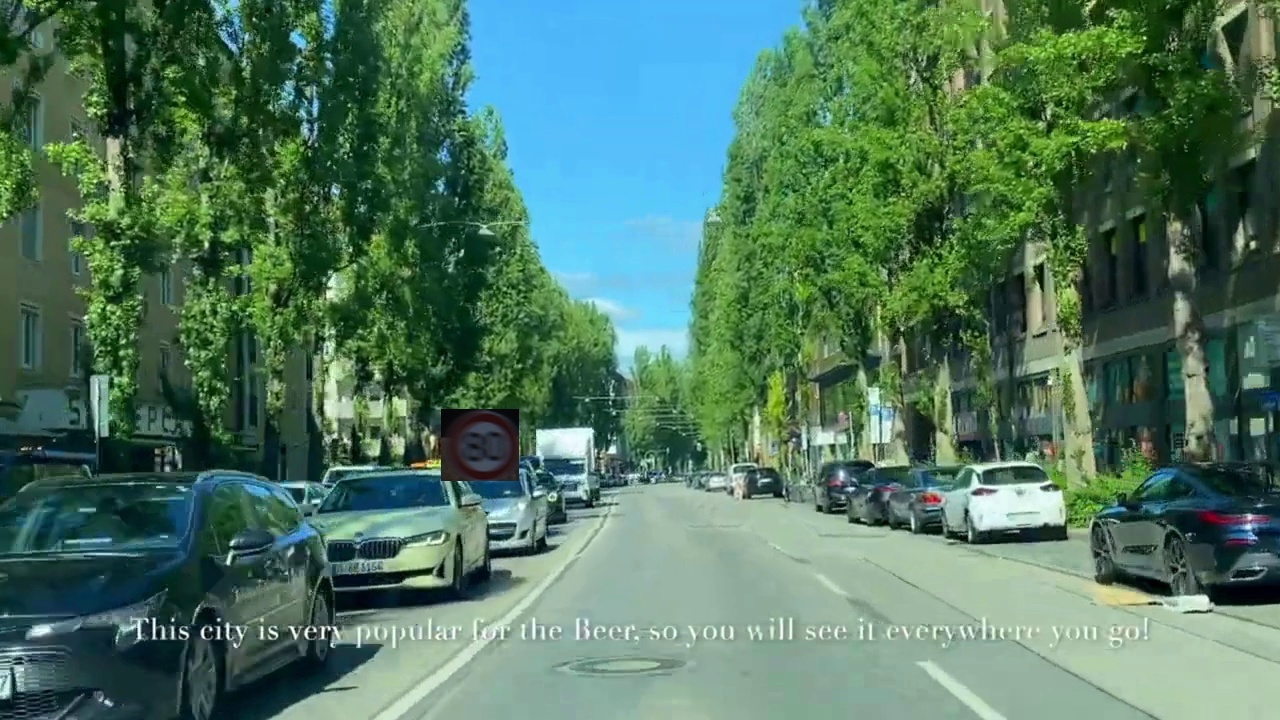Speed 80: (441, 409, 519, 481)
